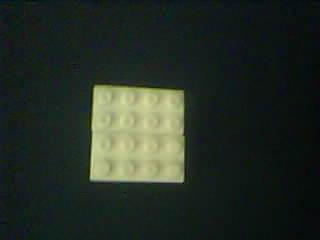lego: (90, 85, 186, 185)
